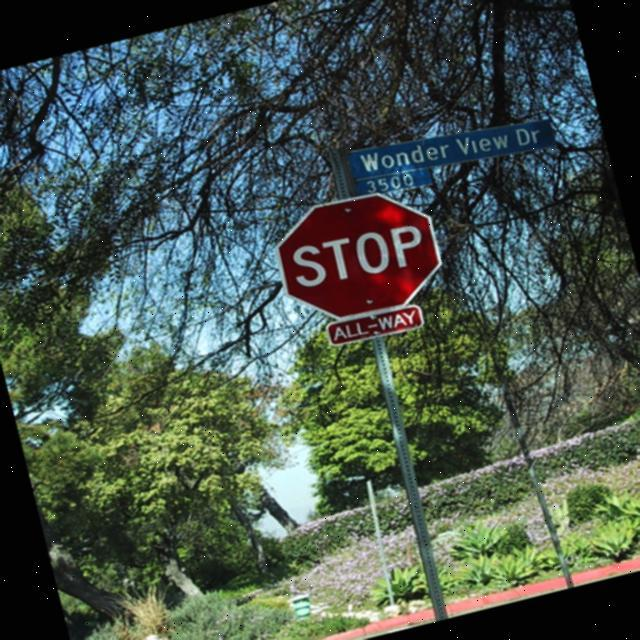fire_hydrant: (133, 627, 174, 640)
